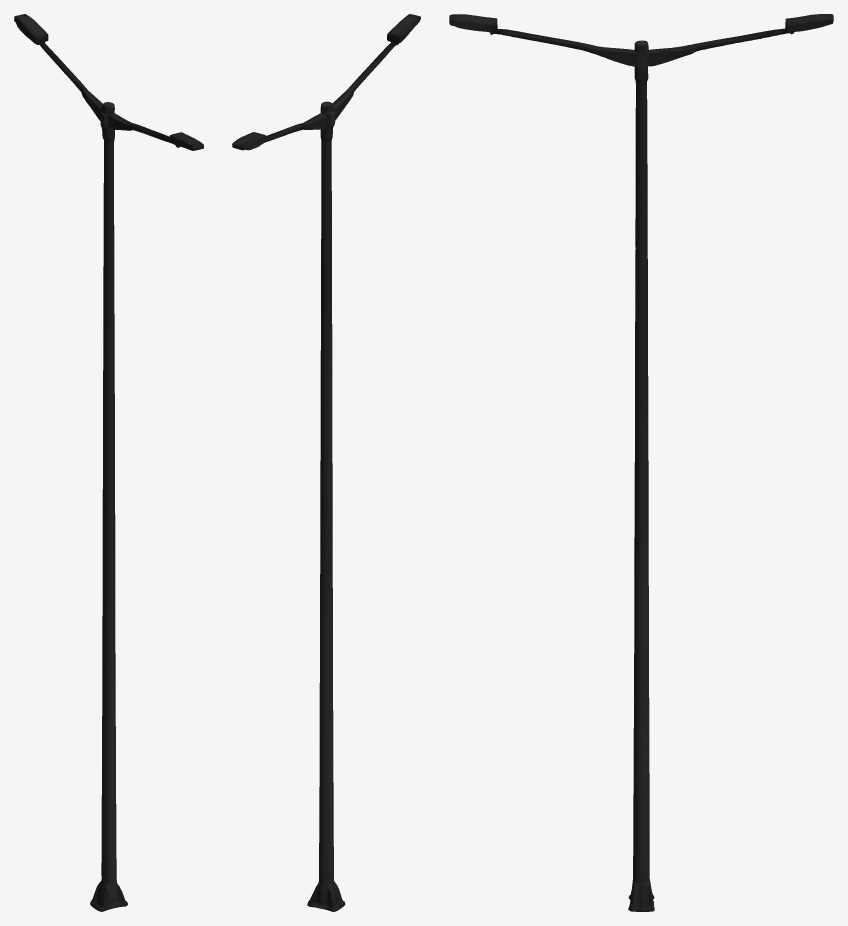
File: Poste.fbx
3 views of the same model, side by side, from view 1: azimuth 30°, elevation 25°; view 2: azimuth 150°, elevation 25°; view 3: azimuth 270°, elevation 25° (orthographic). The views are drawn at different scales.
Parts seen in each view (by area): view 1: tripo_node_2c13de93; view 2: tripo_node_2c13de93; view 3: tripo_node_2c13de93.
Boxes of the visible parts, <box> form: tripo_node_2c13de93: <box>14,14,203,911</box>; tripo_node_2c13de93: <box>232,14,420,911</box>; tripo_node_2c13de93: <box>449,14,833,911</box>.
Size of the model in its own units: 0.0379 by 1 by 0.3923.
Materials: 1 (1 with a texture image).
